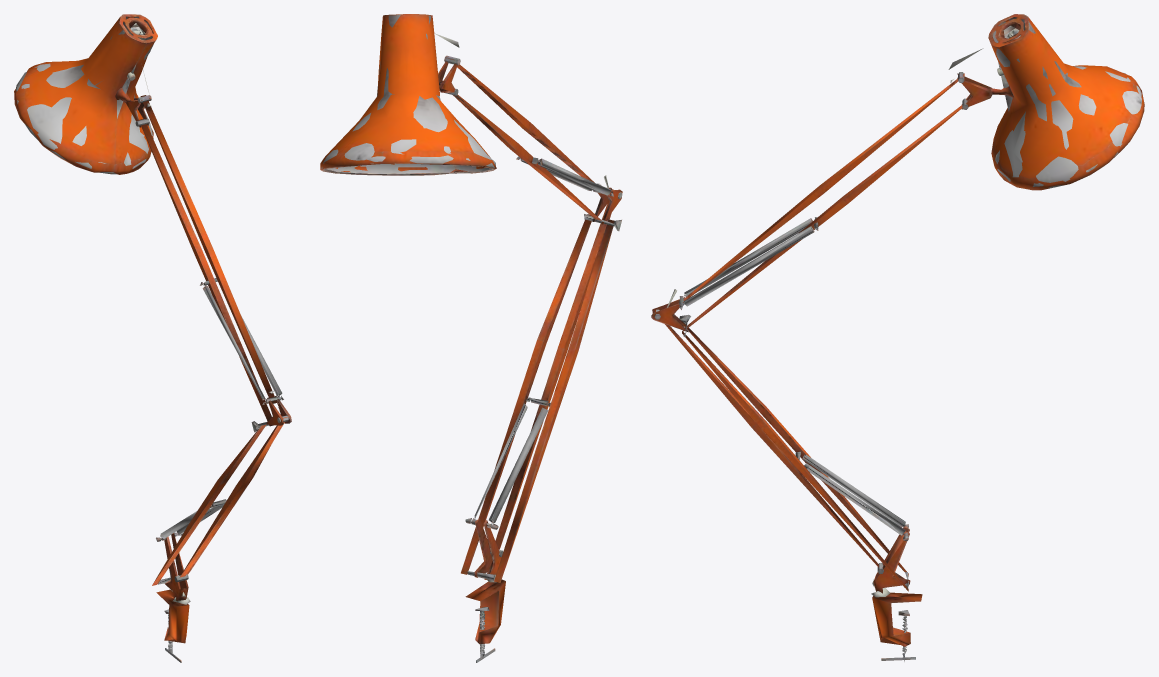
The model's file is desk_lamp_arm_01.glb.
3 views of the same model, side by side, from view 1: azimuth 30°, elevation 25°; view 2: azimuth 150°, elevation 25°; view 3: azimuth 270°, elevation 25° (orthographic). The views are drawn at different scales.
Visible parts, largest first — view 1: Box001; view 2: Box001; view 3: Box001.
Part boxes in pixels (x1,y1,x2,y2): Box001: [14, 14, 291, 662]; Box001: [320, 14, 622, 662]; Box001: [651, 14, 1144, 661].
Bounding box in the file's own units: 0.2013 × 0.8926 × 0.6135.
Materials: 2 (2 with a texture image).
